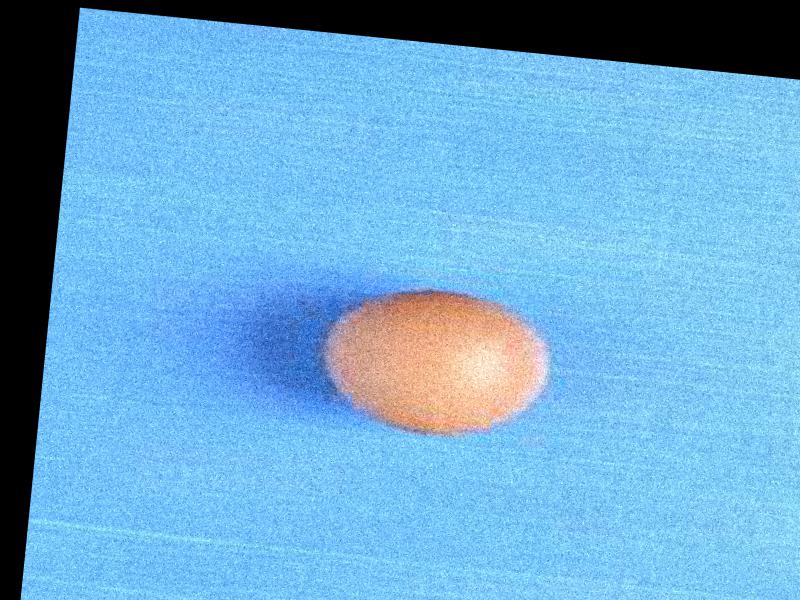Eggs: (310, 280, 559, 444)
